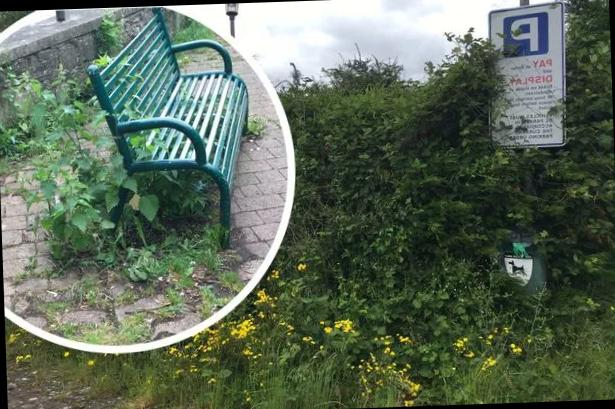overgrown grass: (169, 18, 615, 409), (0, 68, 244, 342), (16, 336, 237, 409), (243, 114, 264, 135)
